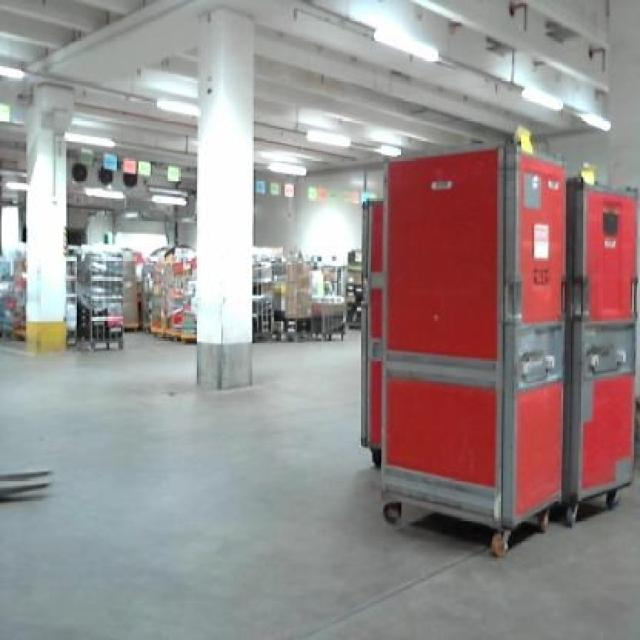floor: (0, 332, 637, 637)
pallets: (358, 143, 634, 554), (562, 177, 634, 512)
